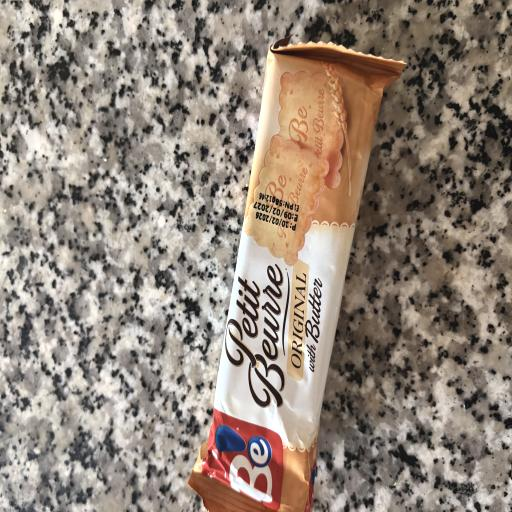petit_beurre: (186, 29, 424, 512)
